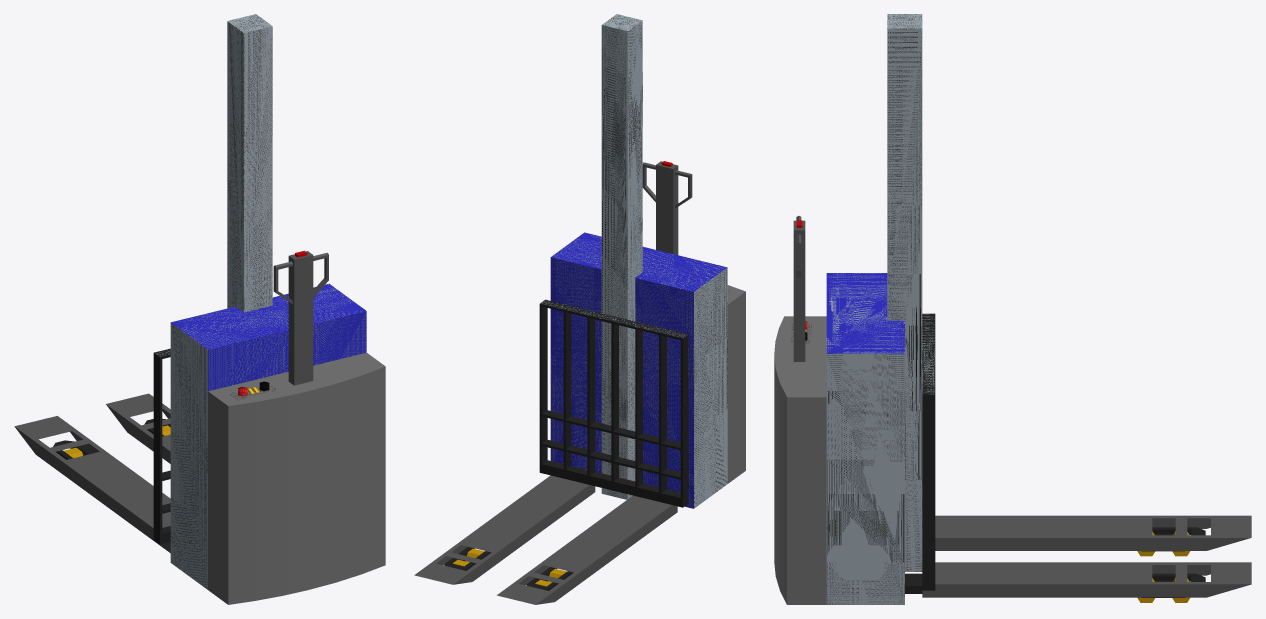
The model's file is hydraulic_pallet_lift.fbx.
The picture shows the model from 3 angles, left to right: view 1: azimuth 30°, elevation 25°; view 2: azimuth 150°, elevation 25°; view 3: azimuth 270°, elevation 25°; orthographic projection. The views are drawn at different scales.
Visible parts, largest first — view 1: Component_1_1, Component_2_1, Component_4_1, Component_10_1, Component_8_1, Component_4_2; view 2: Component_2_1, Component_8_1, Component_4_2, Component_4_1, Component_1_1, Component_10_1; view 3: Component_2_1, Component_1_1, Component_4_2, Component_4_1, Component_8_1, Component_10_1, Component_3_1.
Part boxes in pixels (x1,y1,x2,y2): Component_1_1: (208, 352, 385, 604); Component_2_1: (170, 14, 366, 589); Component_4_1: (14, 416, 170, 552); Component_10_1: (288, 251, 313, 375); Component_8_1: (153, 348, 170, 544); Component_4_2: (106, 393, 170, 463); Component_2_1: (550, 14, 727, 508); Component_8_1: (539, 299, 688, 507); Component_4_2: (414, 475, 595, 584); Component_4_1: (497, 495, 677, 604); Component_1_1: (727, 285, 745, 483); Component_10_1: (656, 161, 678, 254); Component_2_1: (826, 14, 922, 604); Component_1_1: (774, 316, 826, 604); Component_4_2: (922, 562, 1251, 597); Component_4_1: (935, 515, 1251, 550); Component_8_1: (922, 313, 935, 590); Component_10_1: (793, 220, 805, 351); Component_3_1: (905, 573, 1205, 593).
Size of the model in its own units: 67 by 211 by 164.
